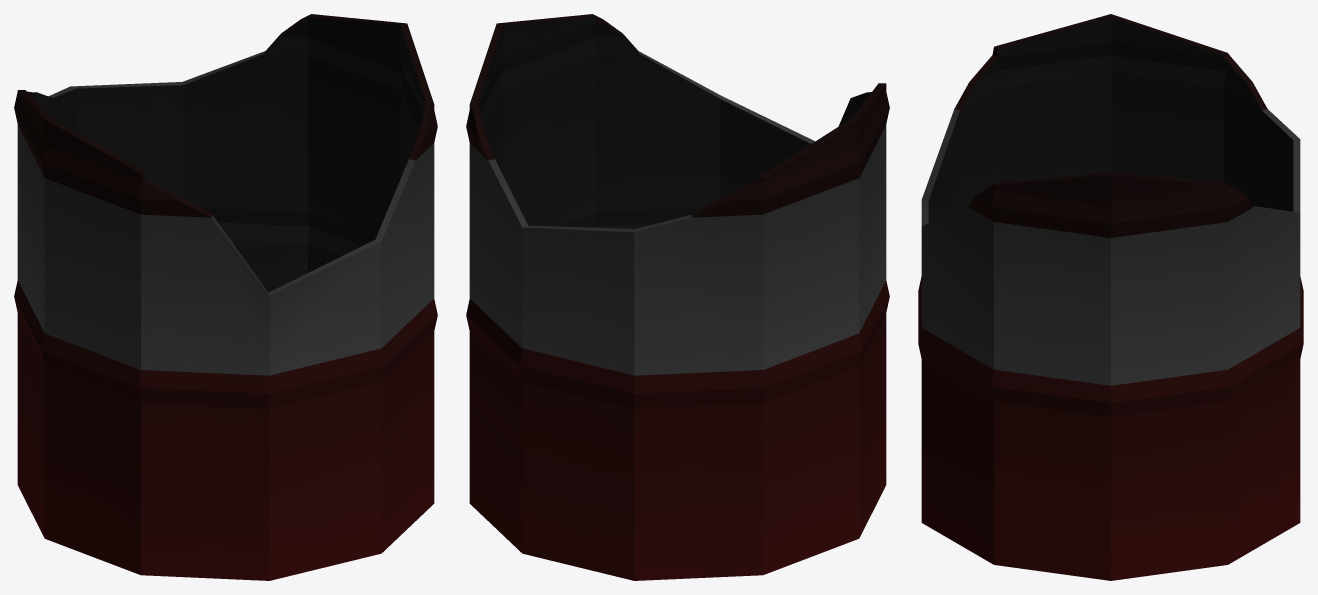
File: FuelBarrelV1_Destroyed.glb
The picture shows the model from 3 angles, left to right: view 1: azimuth 30°, elevation 25°; view 2: azimuth 150°, elevation 25°; view 3: azimuth 270°, elevation 25°; orthographic projection. The views are drawn at different scales.
Parts seen in each view (by area): view 1: FuelBarrelV1_Destroyed; view 2: FuelBarrelV1_Destroyed; view 3: FuelBarrelV1_Destroyed.
Boxes of the visible parts, x1=… form: FuelBarrelV1_Destroyed: x1=14, y1=14, x2=437, y2=580; FuelBarrelV1_Destroyed: x1=466, y1=14, x2=889, y2=580; FuelBarrelV1_Destroyed: x1=918, y1=14, x2=1303, y2=580.
Size of the model in its own units: 0.58 by 0.6409 by 0.5516.
1 material, 1 textured.
